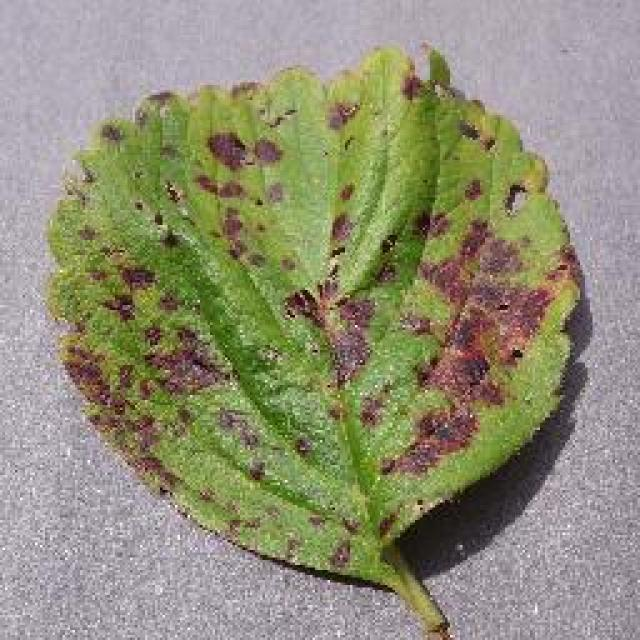Strawberry leaf scorch: (52, 148, 553, 485)
